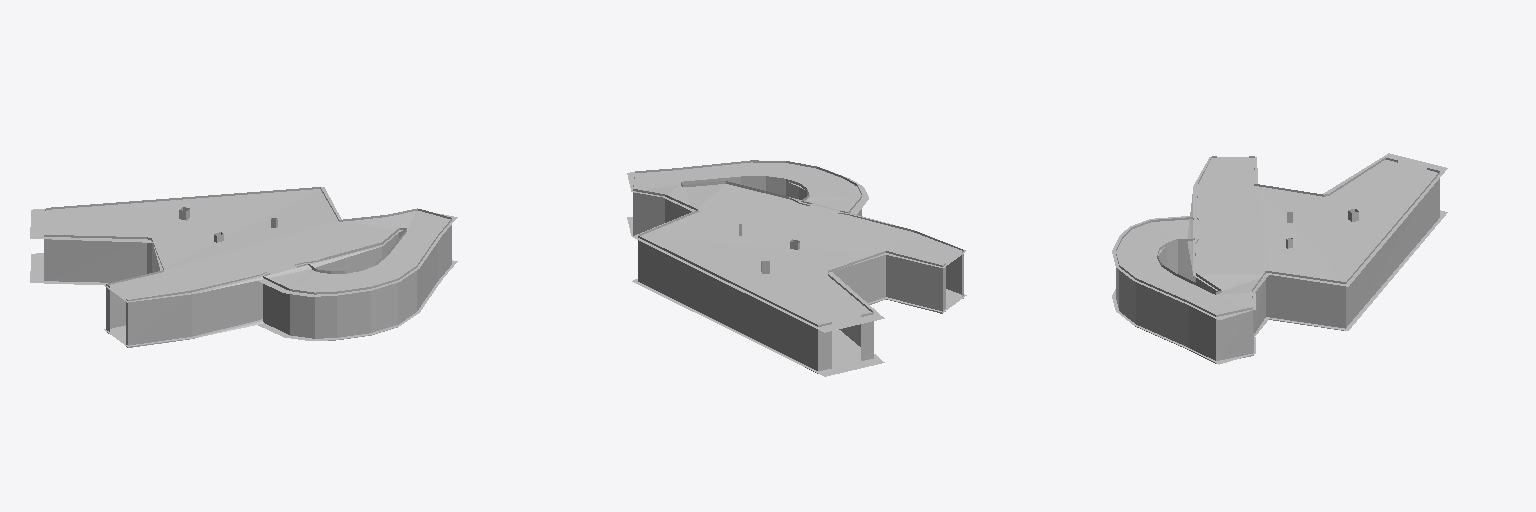
Rendered from Level2.obj.
3 renders of one model, left to right at view 1: azimuth 30°, elevation 25°; view 2: azimuth 150°, elevation 25°; view 3: azimuth 270°, elevation 25°, orthographic.
Visible parts, largest first — view 1: Celling, Walls Wall, Floor; view 2: Celling, Walls Wall, Floor; view 3: Celling, Walls Wall, Floor.
Boxes of the visible parts, box(x1,y1,x2,y2) form: Celling: box(30, 187, 457, 302); Walls Wall: box(44, 187, 451, 347); Floor: box(30, 253, 457, 346); Celling: box(627, 162, 965, 332); Walls Wall: box(633, 160, 963, 373); Floor: box(627, 217, 966, 376); Celling: box(1112, 153, 1447, 319); Walls Wall: box(1116, 156, 1439, 363); Floor: box(1112, 210, 1447, 364).
Bounding box in the file's own units: 68.45 × 10.82 × 58.15.